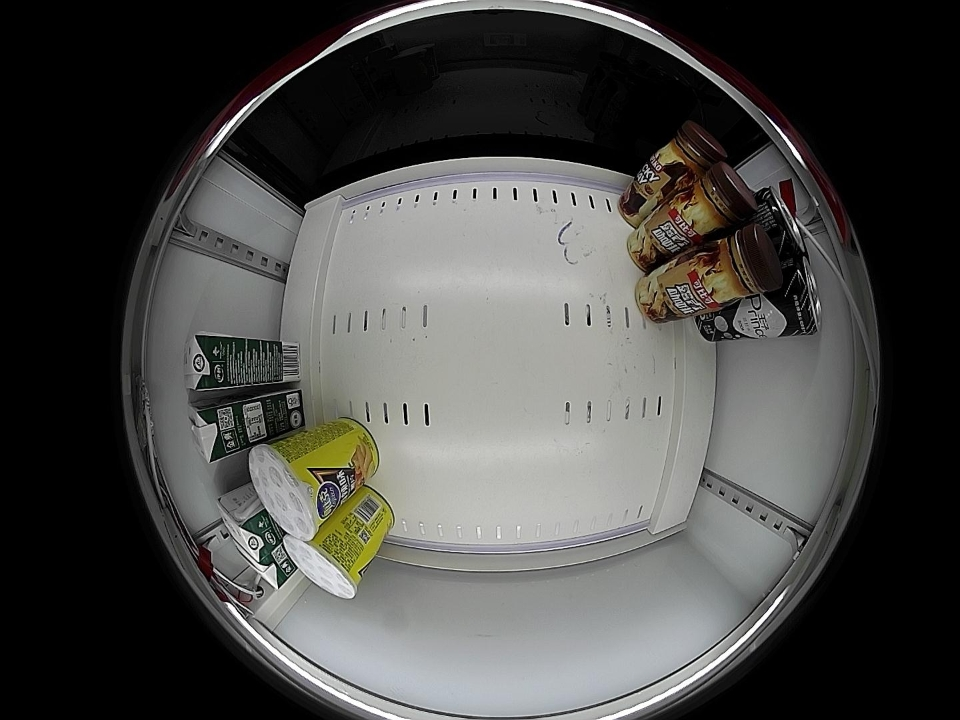jindian: (215, 489, 275, 571), (186, 399, 236, 465), (183, 334, 233, 397), (236, 545, 292, 589)
kebike: (249, 436, 332, 541), (282, 532, 363, 600)
lujikafei: (700, 224, 784, 307), (680, 162, 760, 238), (656, 121, 728, 184)
qingdaowangzi-1: (753, 185, 809, 260), (777, 258, 821, 337)
